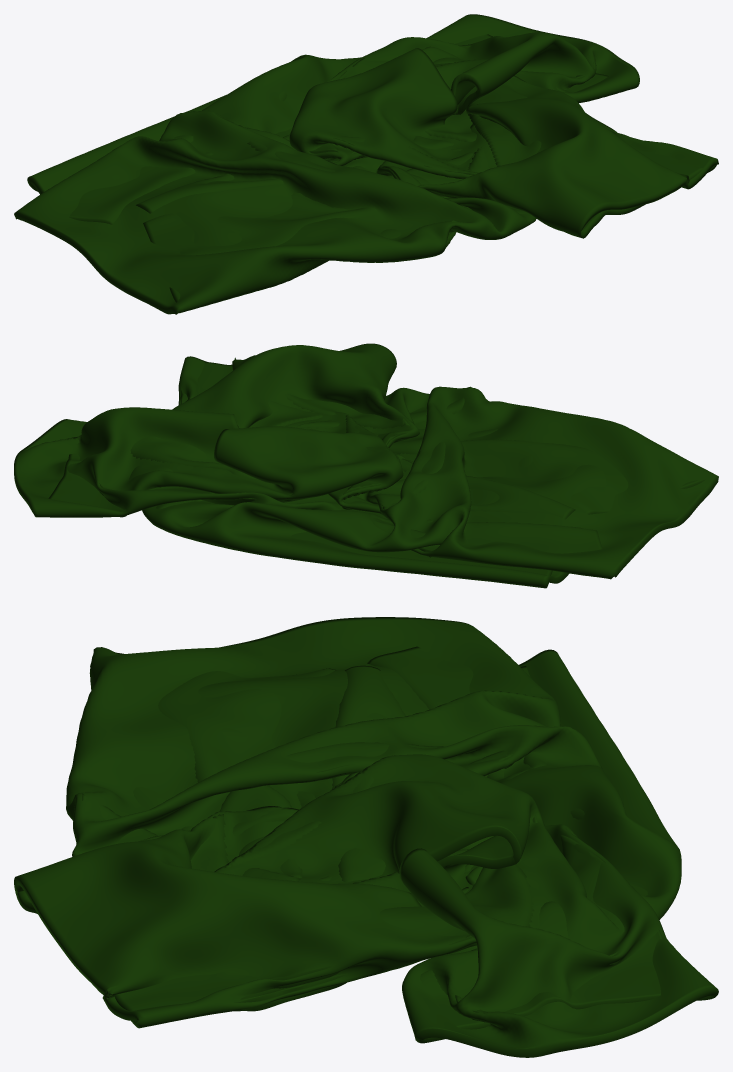
File: greenShirt.fbx
3 views of the same model, one above another, from view 1: azimuth 30°, elevation 25°; view 2: azimuth 150°, elevation 25°; view 3: azimuth 270°, elevation 25° (orthographic). The views are drawn at different scales.
Visible parts, largest first — view 1: Cube; view 2: Cube; view 3: Cube.
Part boxes in pixels (x1=…): Cube: x1=14, y1=14, x2=718, y2=314; Cube: x1=14, y1=343, x2=718, y2=588; Cube: x1=14, y1=617, x2=718, y2=1057.
Bounding box in the file's own units: 714 × 79.91 × 510.
